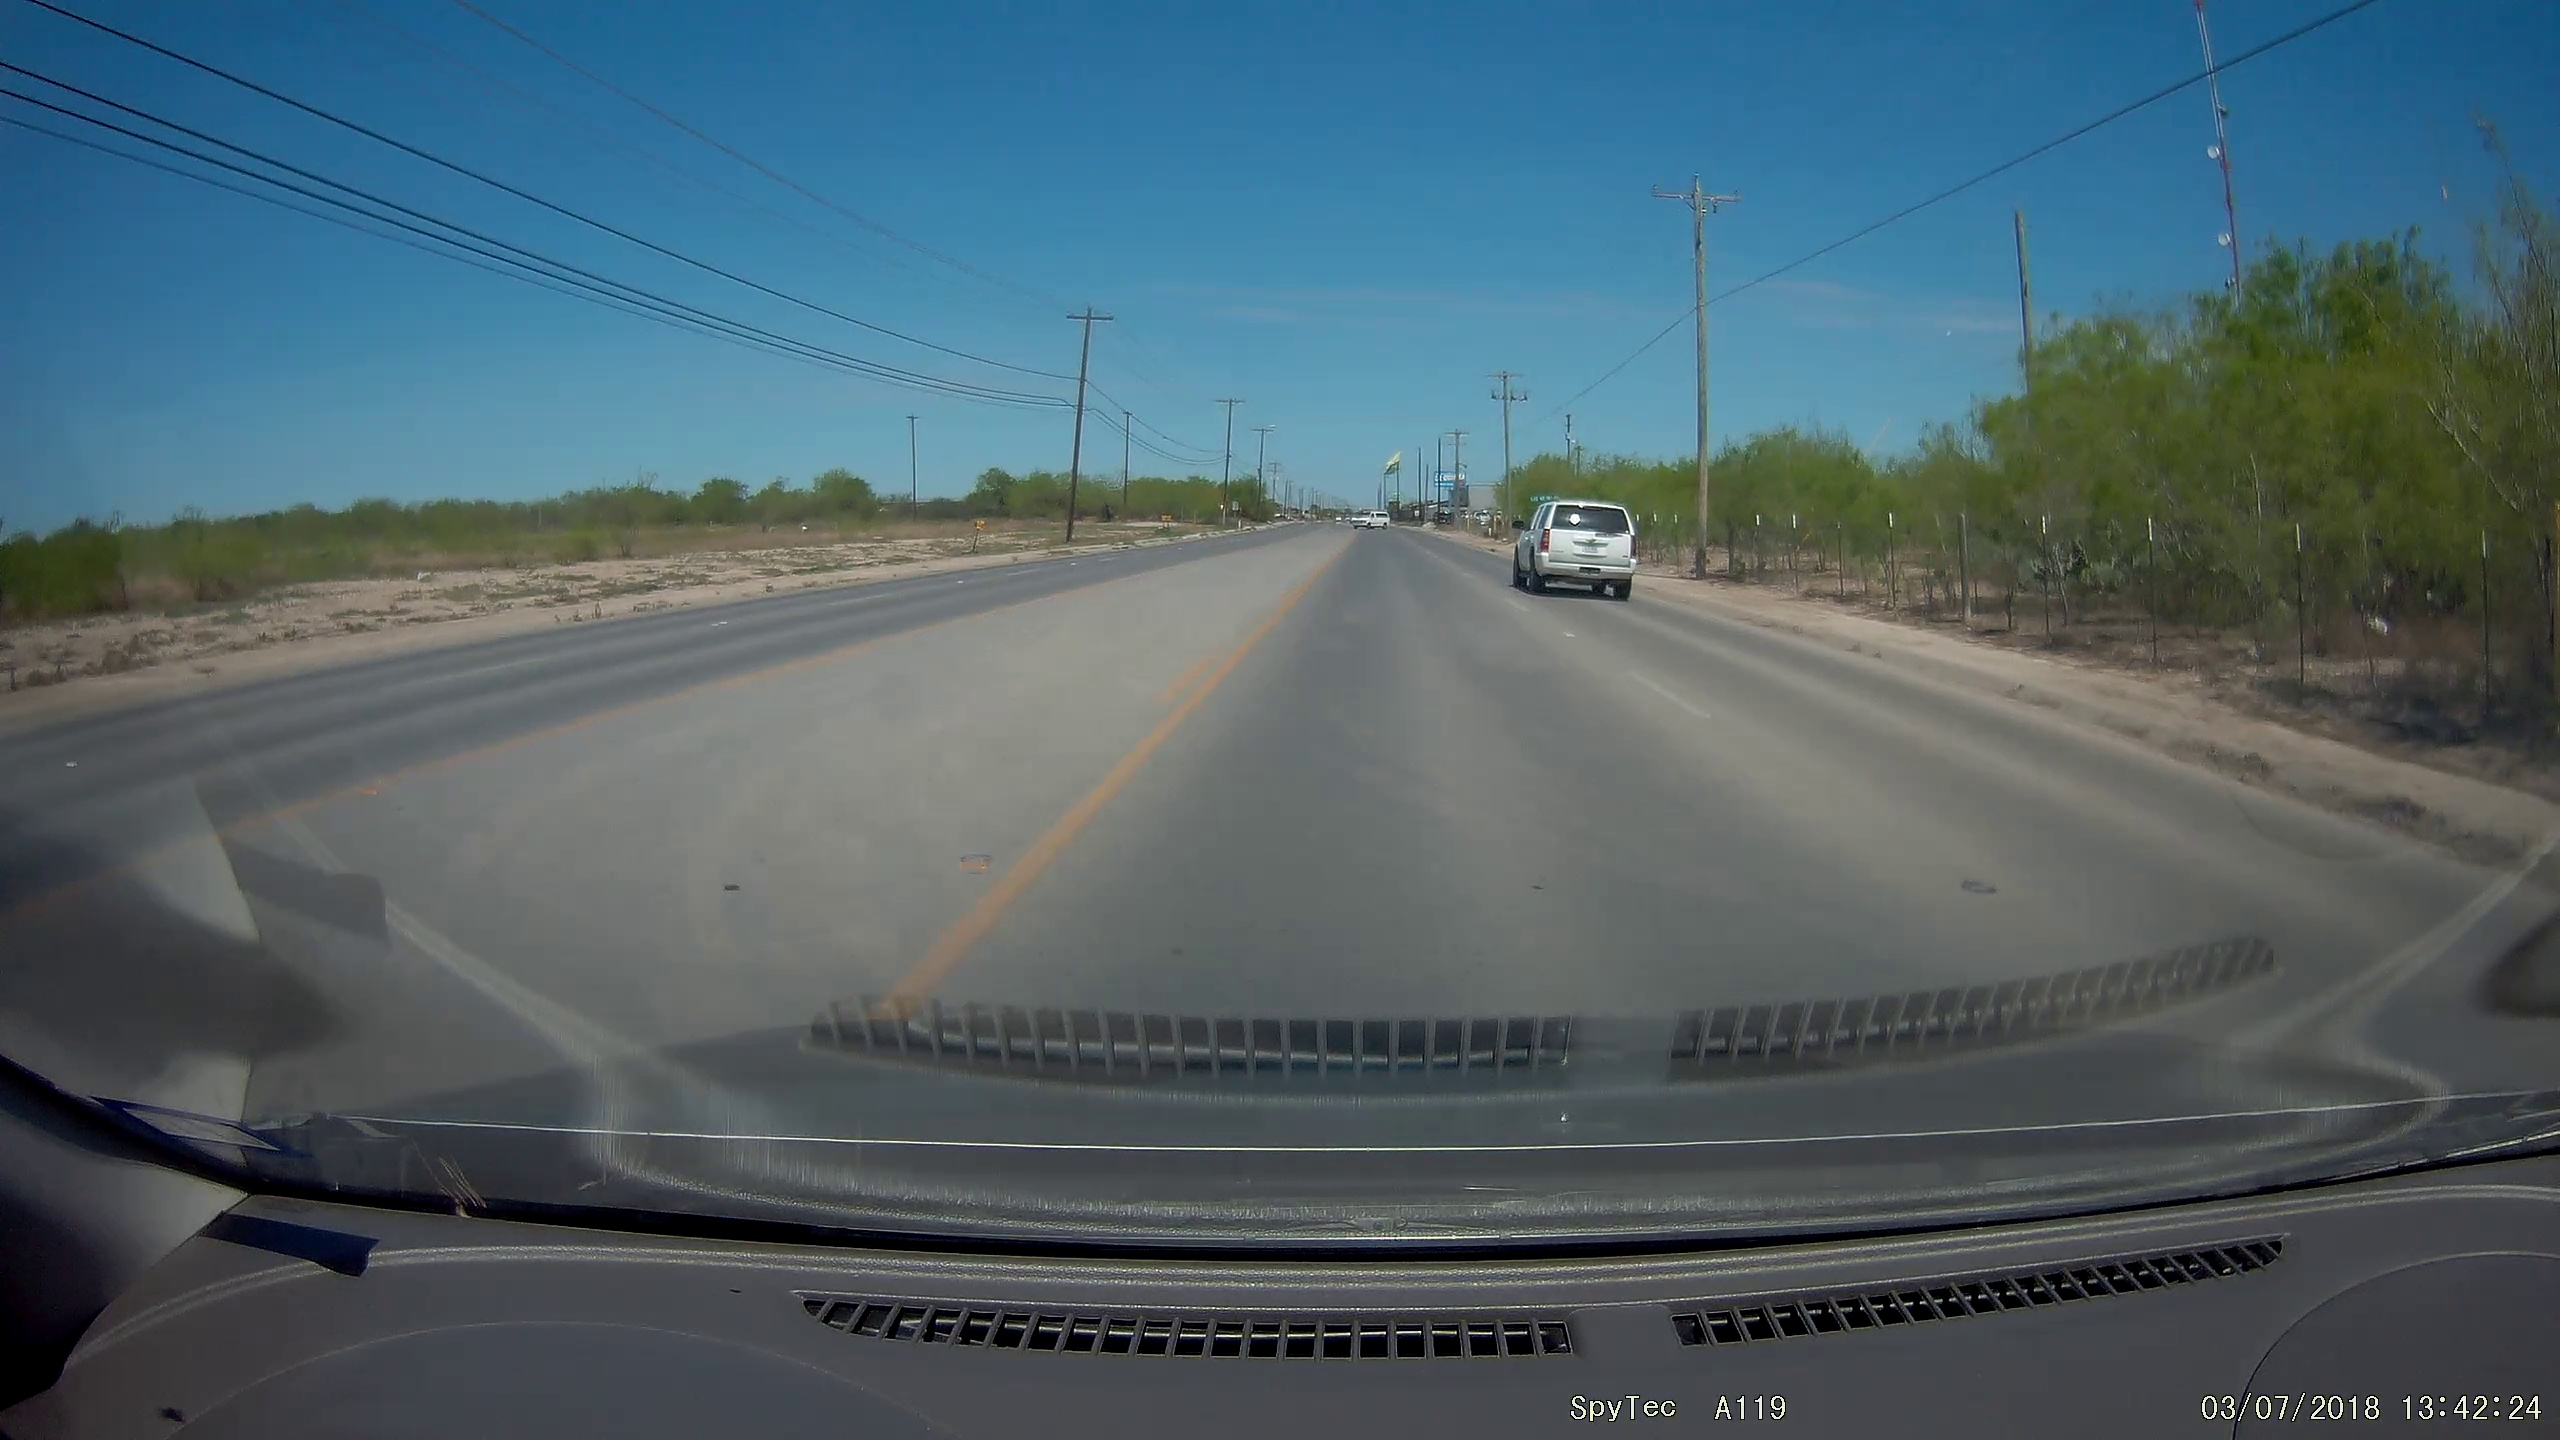blurredLine: (1618, 661, 1728, 733)
